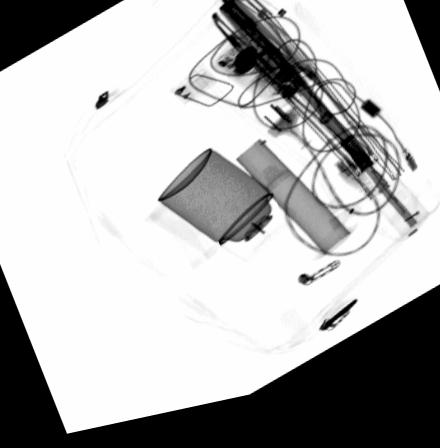Sprayer: (156, 153, 298, 274)
